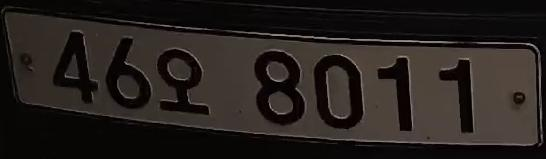0: (309, 53, 372, 134)
1: (373, 49, 429, 139), (432, 52, 489, 136)
4: (50, 27, 102, 107)
6: (104, 33, 156, 110)
8: (249, 44, 312, 129)
오: (154, 43, 220, 118)
